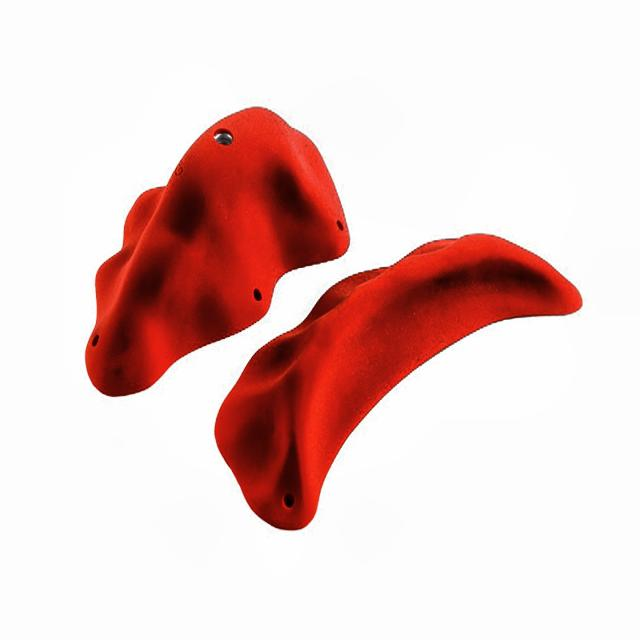Hold: (206, 229, 605, 544), (63, 86, 353, 416)
